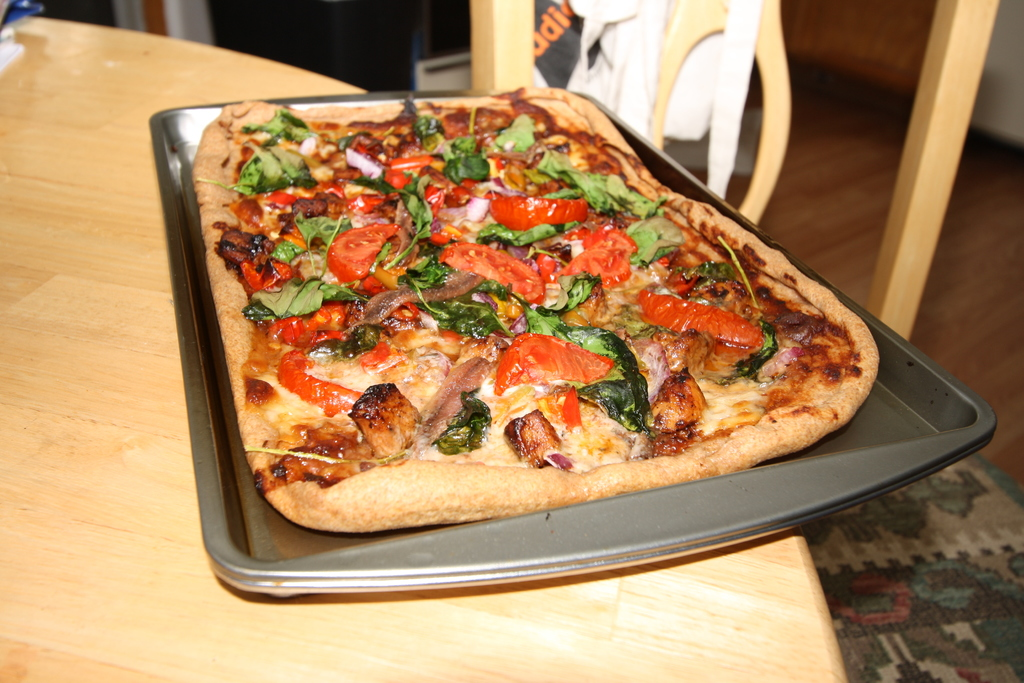Pizza: (163, 98, 886, 539)
